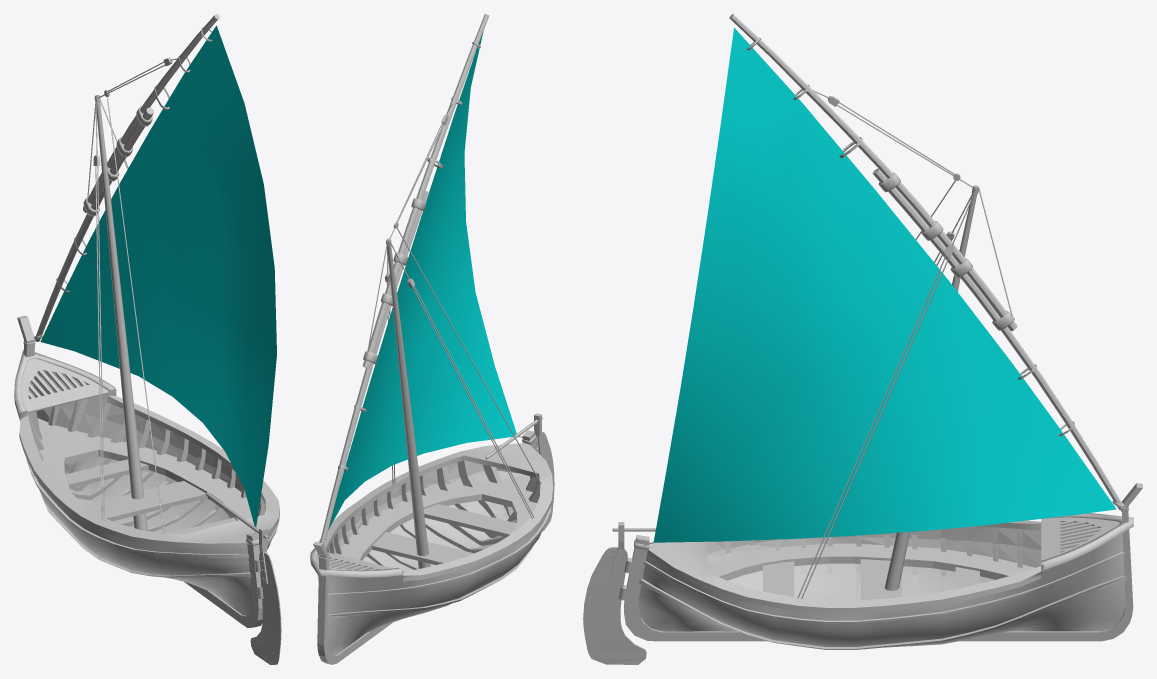
The model's file is boat_5.fbx.
3 renders of one model, left to right at view 1: azimuth 30°, elevation 25°; view 2: azimuth 150°, elevation 25°; view 3: azimuth 270°, elevation 25°, orthographic. The views are drawn at different scales.
Parts seen in each view (by area): view 1: polySurface3544; view 2: polySurface3544; view 3: polySurface3544.
Boxes of the visible parts, x1,y1,x2,y2 form: polySurface3544: (14,14,281,664); polySurface3544: (310,14,554,664); polySurface3544: (583,14,1142,664).
Bounding box in the file's own units: 213 × 706 × 548.
